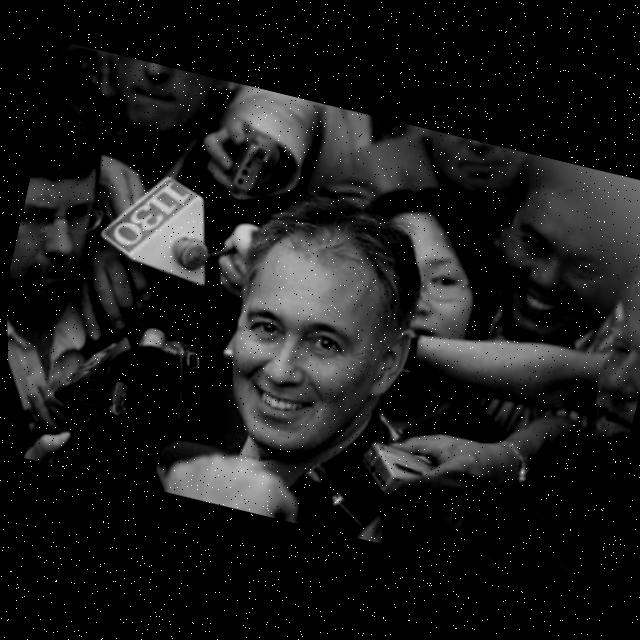face: (208, 206, 432, 470), (483, 186, 640, 357), (373, 194, 497, 364), (6, 129, 107, 331), (590, 256, 640, 451)
